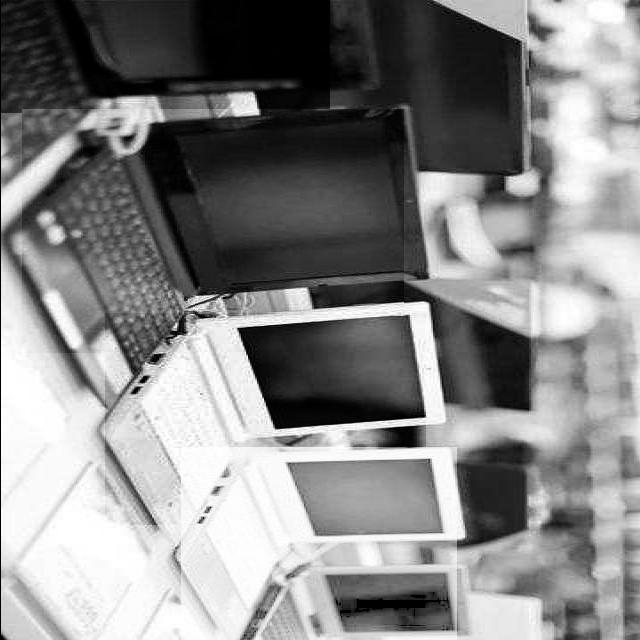-keyboard-: (22, 110, 404, 353), (105, 313, 426, 525), (182, 447, 458, 640), (0, 0, 330, 113)
